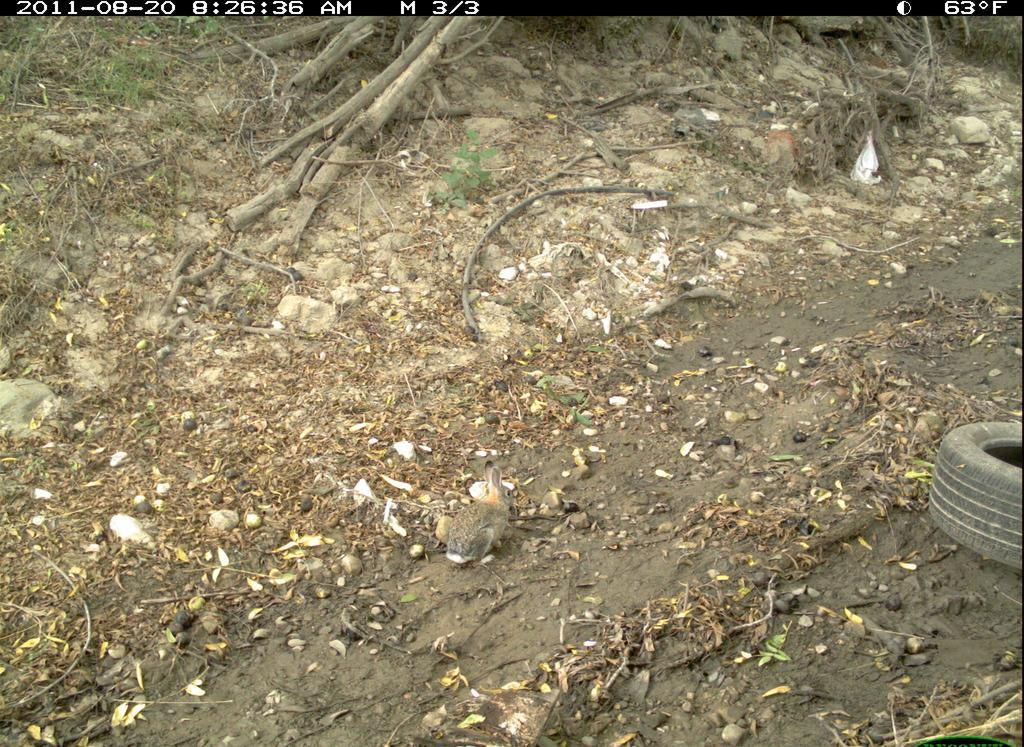rabbit: (437, 469, 529, 579)
